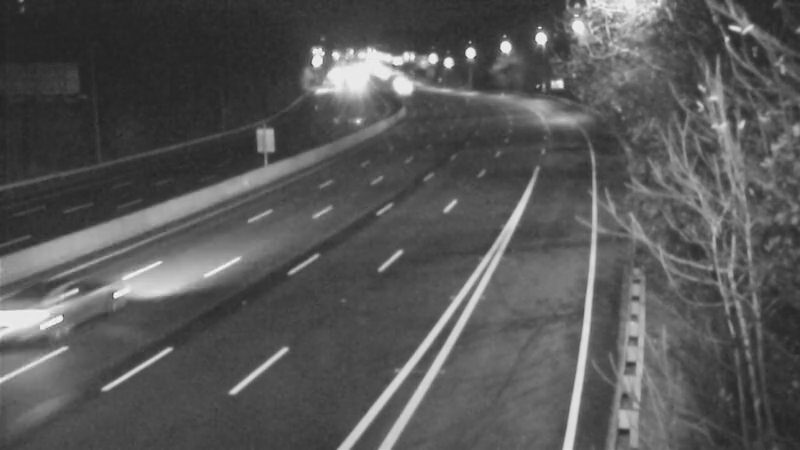vehicle: (1, 264, 110, 374), (378, 62, 428, 112)
